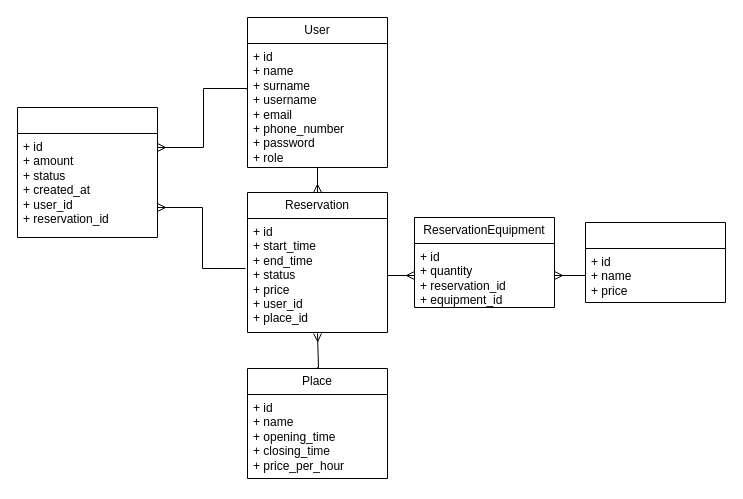
This 743x499 diagram has some shape labels left out. The shapes that lost their labels are listed below. From the top down, each one's box as (x1, y1, x2, y2) in pixels, then its label:
(16, 106, 158, 238): Payment
(584, 222, 726, 302): Equipment
